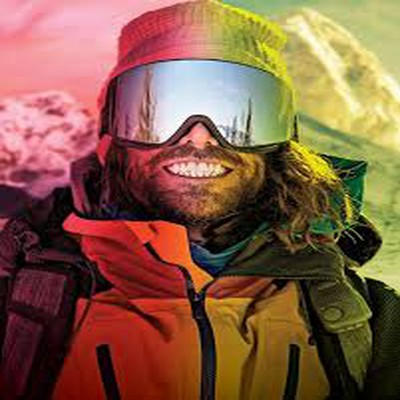eywear: (97, 60, 309, 161)
